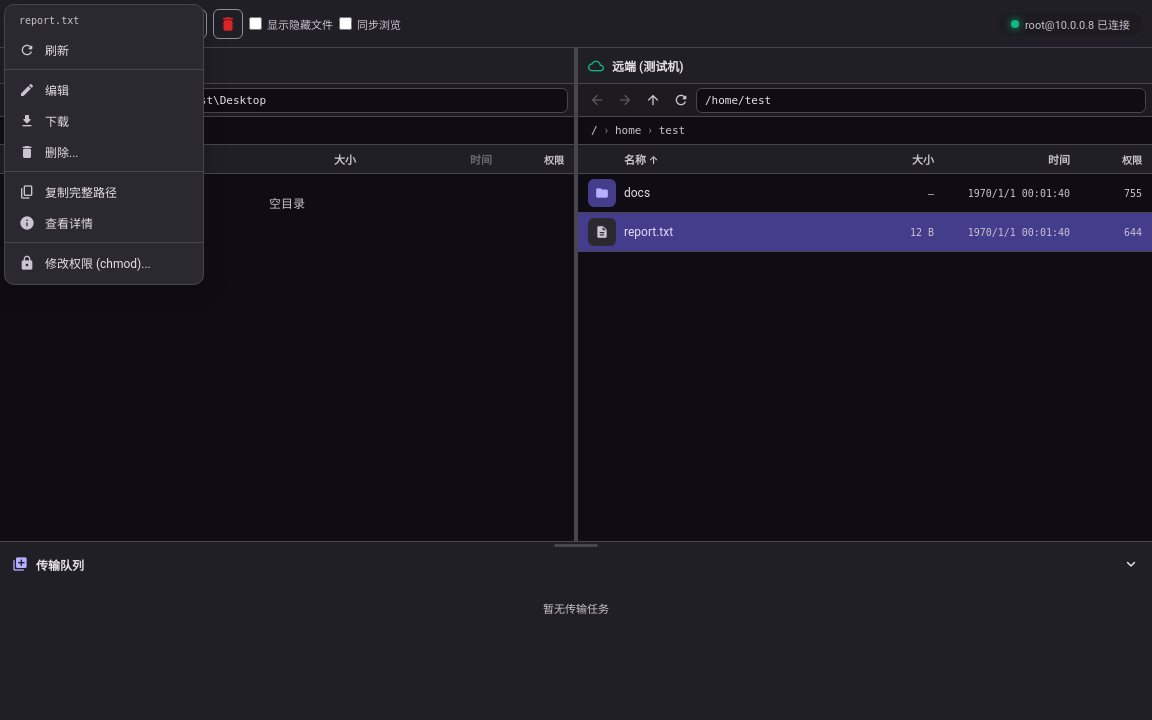
SFTP 远端文本编辑（外部编辑器） › 目录的编辑入口禁用，文件编辑后不在内嵌编辑器打开而是提示本地路径与备份
Earlier steps of the test are not shown.
Click the menu item "编辑": (44, 90) [19,82,69,98]
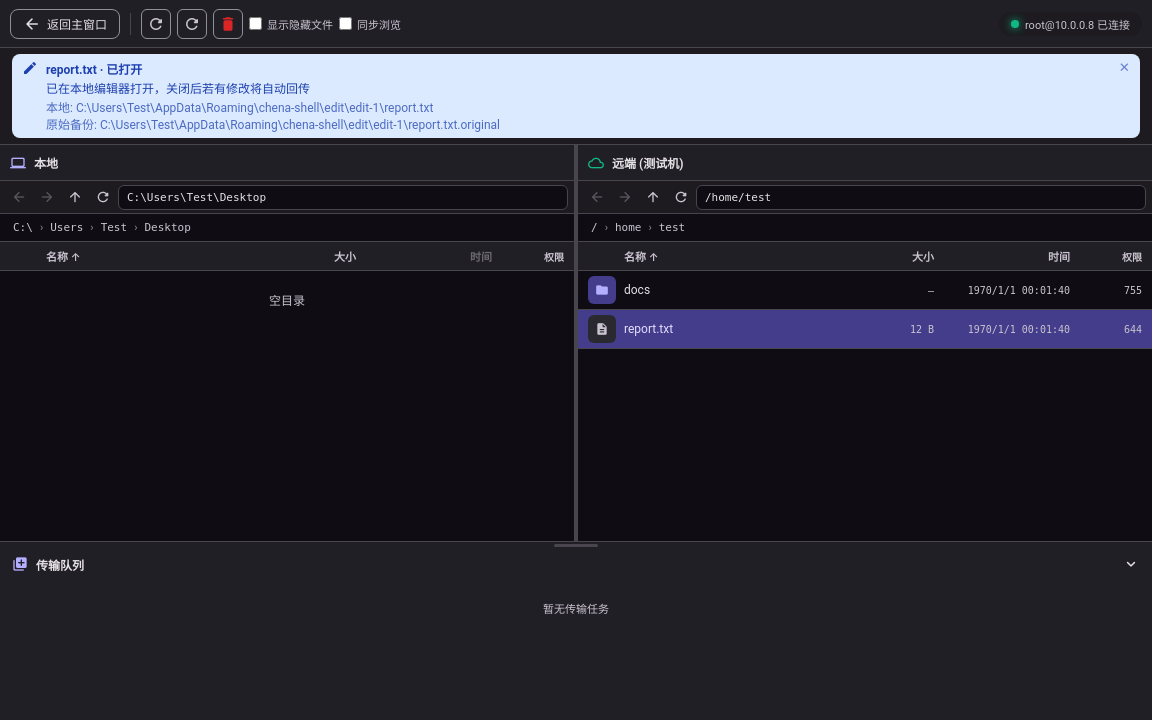
expect the message with test id "edit-notice-opened" shows "report.txt": met, box [46,63,97,77]
expect the message with test id "edit-notice-opened" shows "C:\\Users\\Test\\AppData\\Roaming\\chena-shell\\edit\\edit-1\\report.txt": met, box [76,101,433,115]
expect the message with test id "edit-notice-opened" shows "C:\\Users\\Test\\AppData\\Roaming\\chena-shell\\edit\\edit-1\\report.txt.original": met, box [100,118,500,132]
